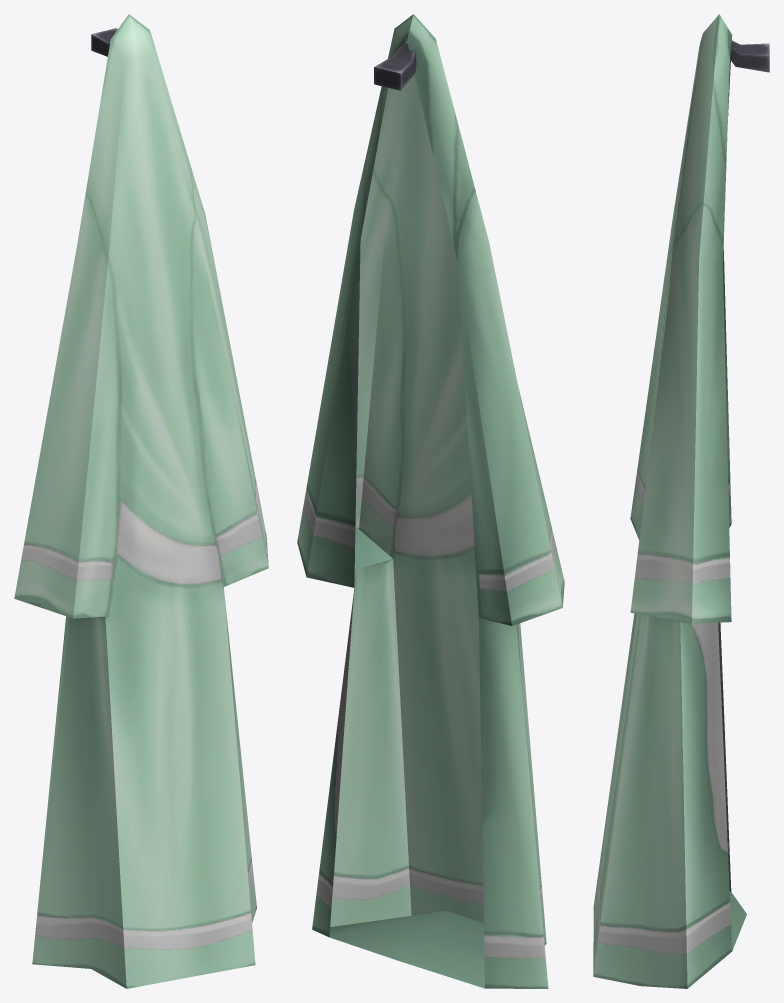
File: albornoz1.fbx
The picture shows the model from 3 angles, left to right: view 1: azimuth 30°, elevation 25°; view 2: azimuth 150°, elevation 25°; view 3: azimuth 270°, elevation 25°; orthographic projection. The views are drawn at different scales.
Visible parts, largest first — view 1: albornoz; view 2: albornoz; view 3: albornoz.
Boxes of the visible parts, <box> form: albornoz: <box>14,14,268,988</box>; albornoz: <box>297,14,564,988</box>; albornoz: <box>593,14,769,988</box>.
Bounding box in the file's own units: 37.62 × 132 × 22.54.
1 material, 1 textured.
